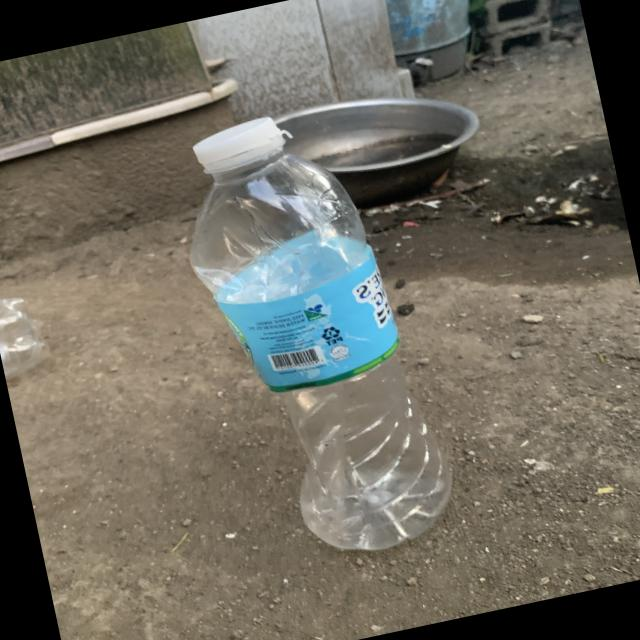Bottle: (191, 117, 451, 550)
